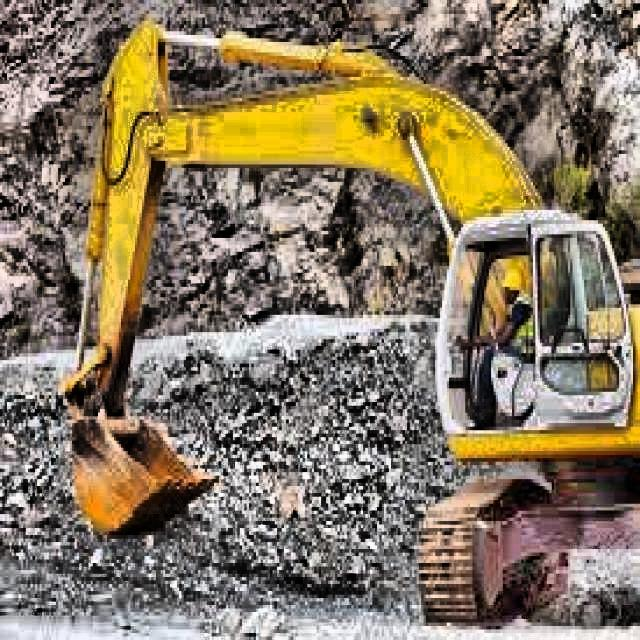bull_dozer/loader/grader: (58, 25, 640, 626)
person: (454, 260, 540, 434)
